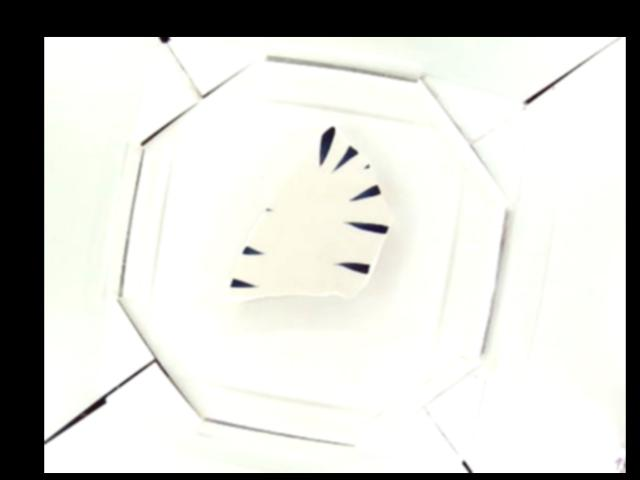China: (223, 121, 392, 302)
